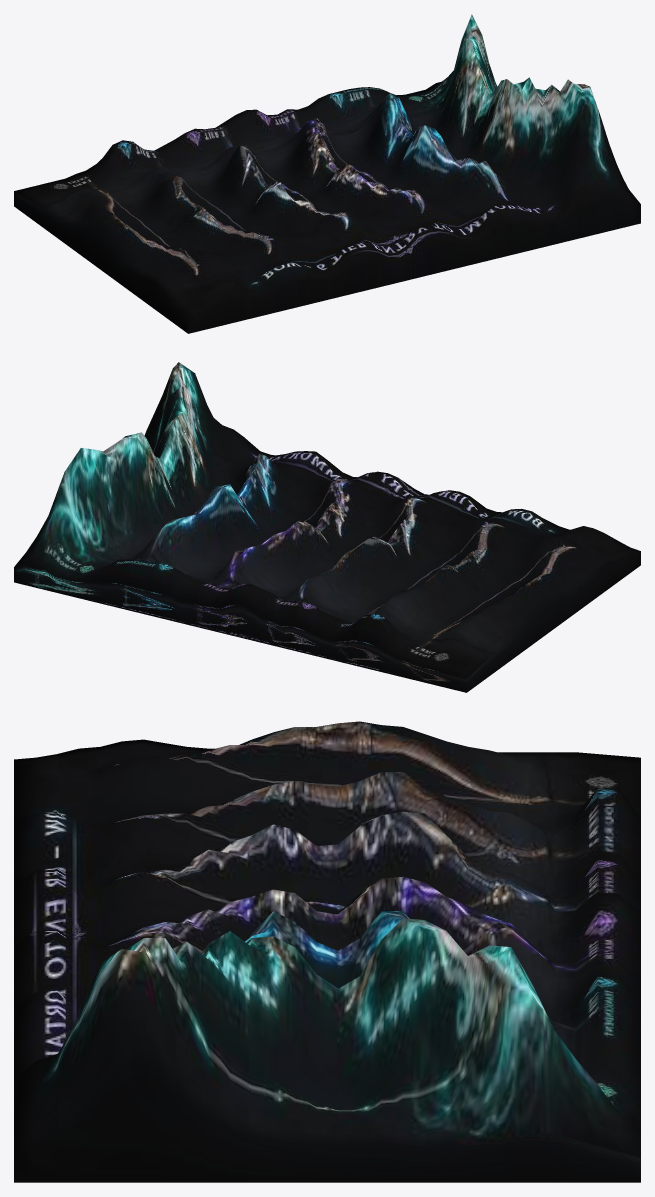
File: ARSENAL_Bow_6Tier.glb
The picture shows the model from 3 angles, top to bottom: view 1: azimuth 30°, elevation 25°; view 2: azimuth 150°, elevation 25°; view 3: azimuth 270°, elevation 25°; orthographic projection. The views are drawn at different scales.
Parts seen in each view (by area): view 1: ARSENAL_Bow_6Tier; view 2: ARSENAL_Bow_6Tier; view 3: ARSENAL_Bow_6Tier.
Part boxes in pixels (x1,y1,x2,y2): ARSENAL_Bow_6Tier: (14,14,640,333); ARSENAL_Bow_6Tier: (14,362,640,692); ARSENAL_Bow_6Tier: (14,721,640,1182).
Size of the model in its own units: 2 by 0.51 by 1.33.
Materials: 1 (1 with a texture image).
